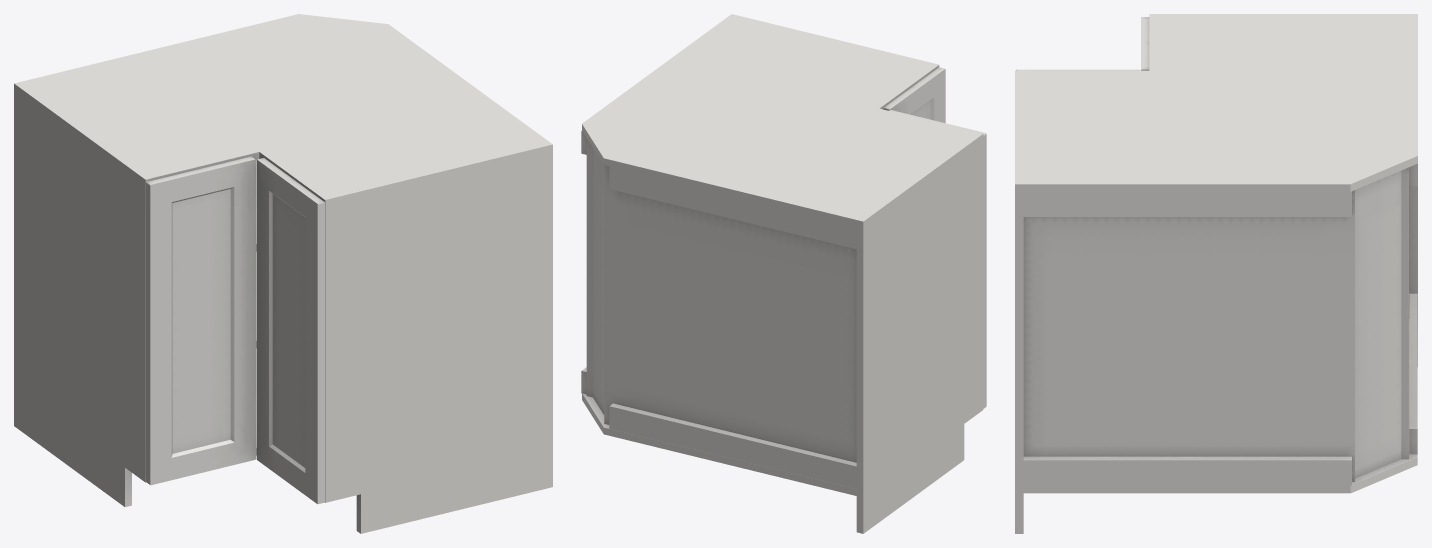
The model's file is 90-corner-base-doors-on.glb.
3 views of the same model, side by side, from view 1: azimuth 30°, elevation 25°; view 2: azimuth 150°, elevation 25°; view 3: azimuth 270°, elevation 25° (orthographic). The views are drawn at different scales.
Parts seen in each view (by area): view 1: part_0, part_12; view 2: part_0, part_12; view 3: part_0, part_12.
Part boxes in pixels (bbox=[...]): part_0: bbox=[14, 14, 552, 533]; part_12: bbox=[146, 156, 324, 504]; part_0: bbox=[581, 14, 983, 533]; part_12: bbox=[883, 67, 986, 408]; part_0: bbox=[1015, 14, 1417, 533]; part_12: bbox=[1016, 17, 1149, 70].
Size of the model in its own units: 0.9144 by 0.8763 by 0.9144.
2 materials, 2 textured.
